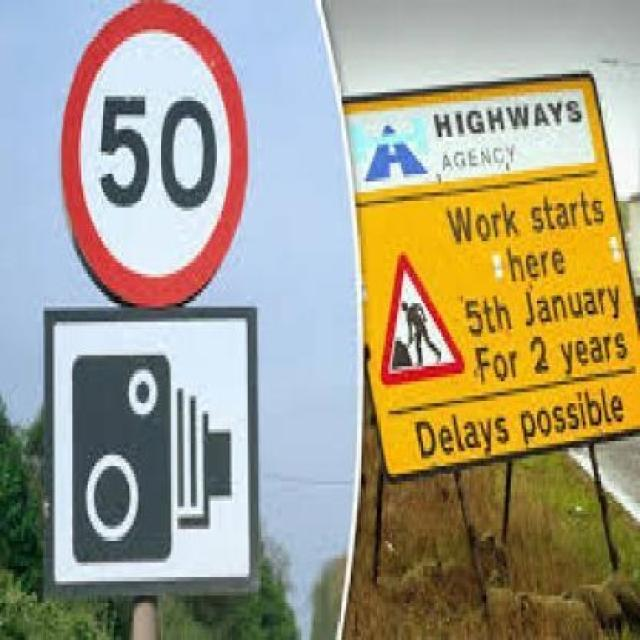forb_speed_over_50: (63, 2, 248, 306)
